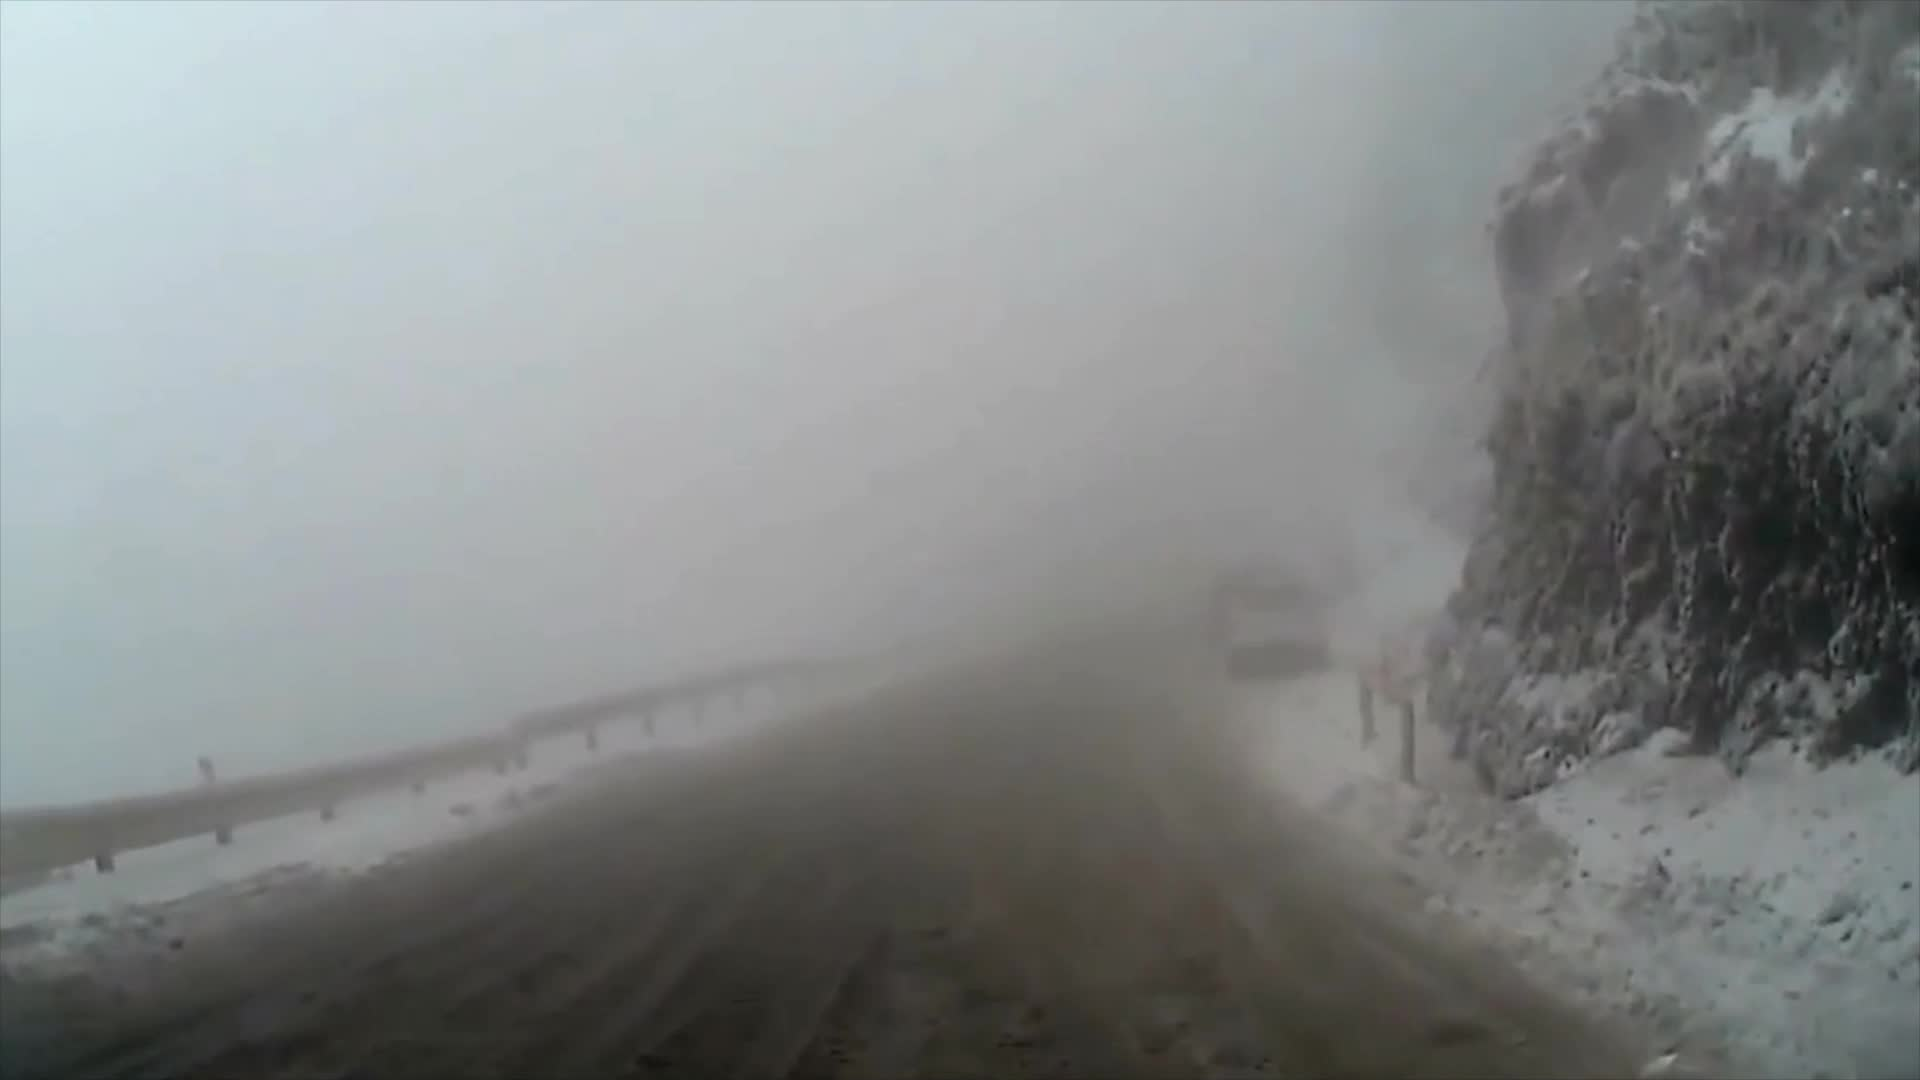vehicle: (1216, 574, 1336, 680)
